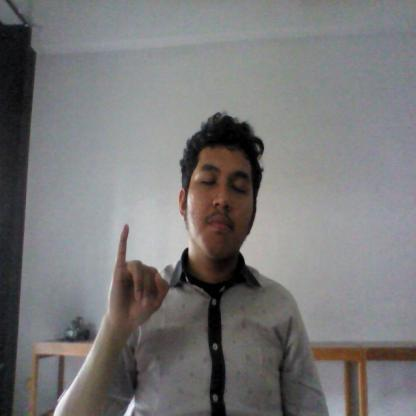I: (106, 218, 170, 336)
